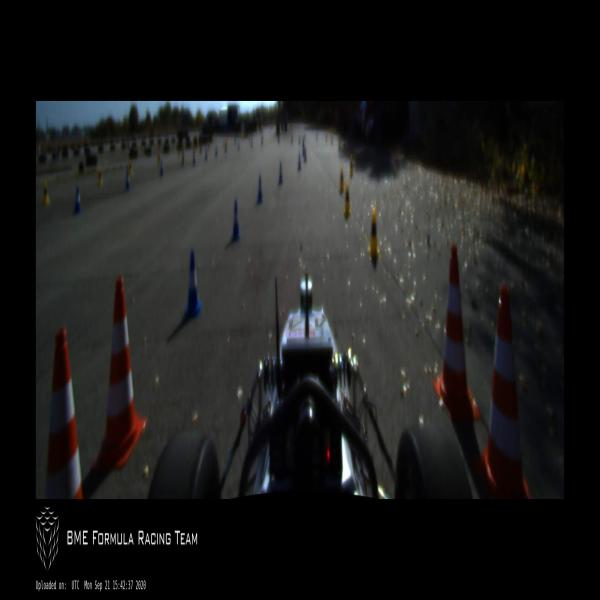blue_cone: (183, 250, 201, 322), (231, 200, 241, 242), (74, 186, 81, 214), (257, 176, 263, 205), (125, 170, 130, 193), (278, 162, 283, 184), (160, 160, 164, 178), (298, 153, 301, 172), (192, 152, 195, 165), (304, 148, 306, 162)
large_orange_cone: (90, 275, 148, 469), (479, 286, 532, 498), (433, 244, 480, 423), (44, 328, 84, 498)
yellow_cone: (368, 207, 379, 259), (343, 181, 351, 216), (43, 181, 50, 207), (338, 168, 344, 194), (349, 154, 353, 178), (98, 167, 103, 186), (355, 151, 359, 169), (128, 159, 132, 177), (157, 150, 161, 167), (343, 140, 346, 154)
